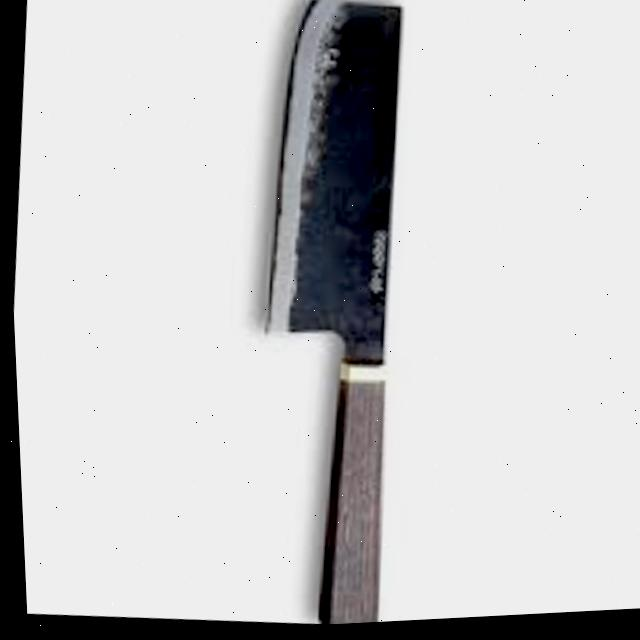knife: (224, 0, 429, 631)
